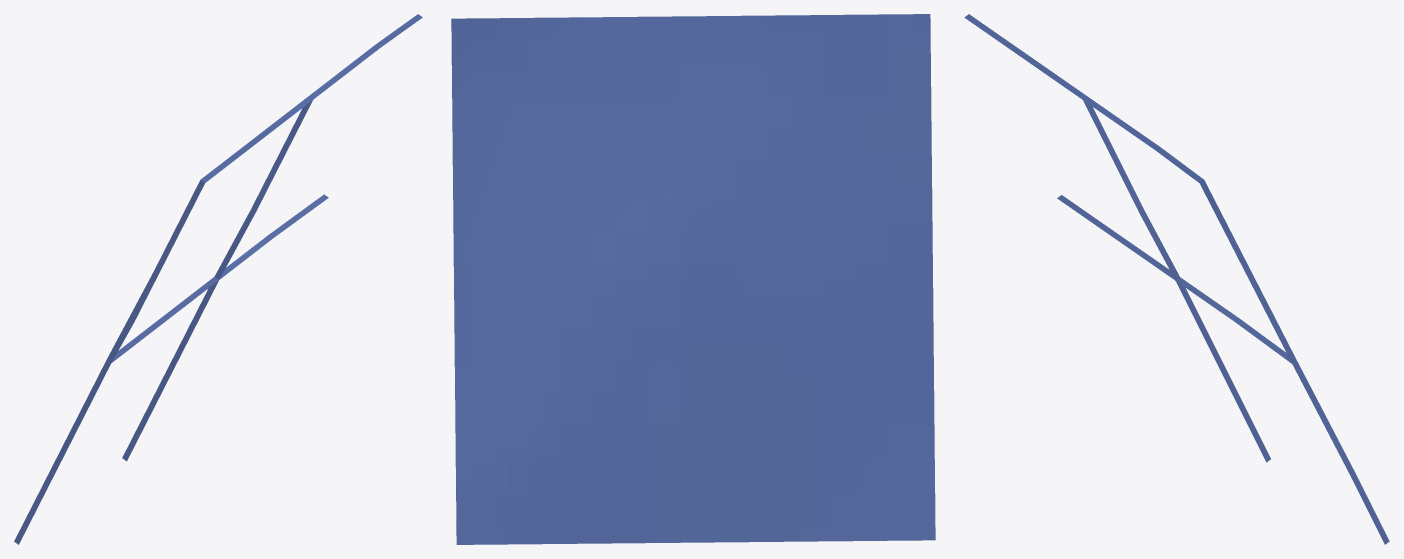
3 views of the same model, side by side, from view 1: azimuth 30°, elevation 25°; view 2: azimuth 150°, elevation 25°; view 3: azimuth 270°, elevation 25° (orthographic). The views are drawn at different scales.
Bounding box in the file's own units: 4917 × 4429 × 4141.
Materials: 1 (1 with a texture image).
